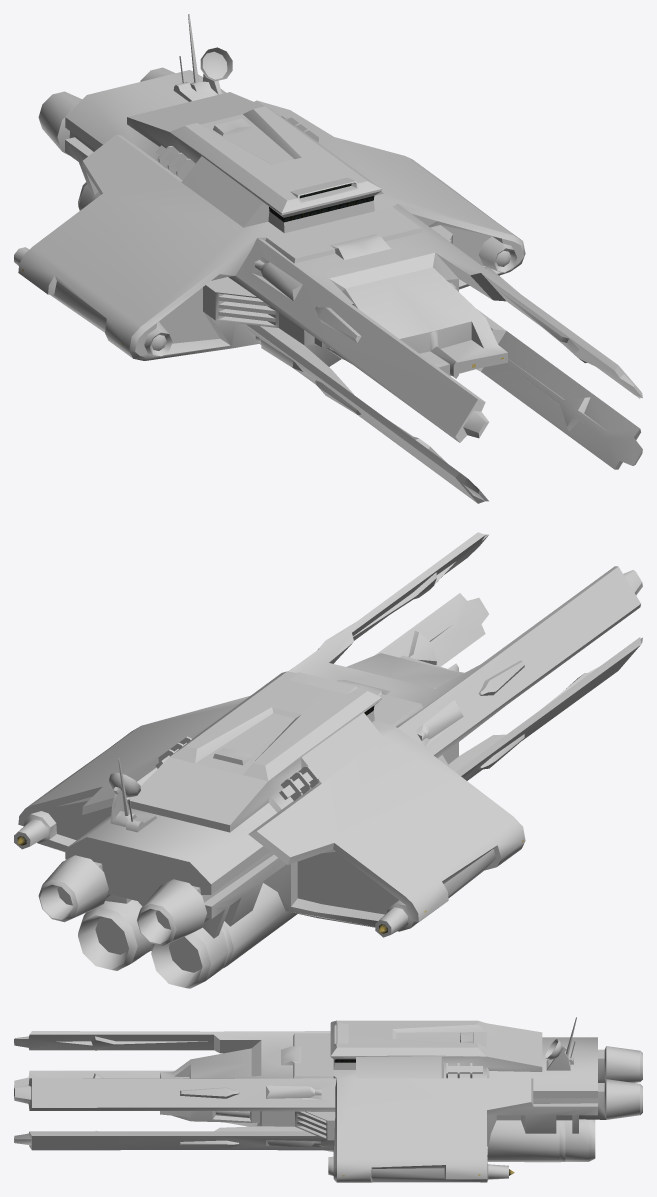
Rendered from blacksun_transport_l1.fbx.
The picture shows the model from 3 angles, top to bottom: view 1: azimuth 30°, elevation 25°; view 2: azimuth 150°, elevation 25°; view 3: azimuth 270°, elevation 25°; orthographic projection. The views are drawn at different scales.
Visible parts, largest first — view 1: mesh_node; view 2: mesh_node; view 3: mesh_node.
Boxes of the visible parts, <box> form: mesh_node: <box>14,14,642,503</box>; mesh_node: <box>14,532,642,988</box>; mesh_node: <box>14,1017,642,1182</box>.
Bounding box in the file's own units: 51.29 × 24.86 × 100.
